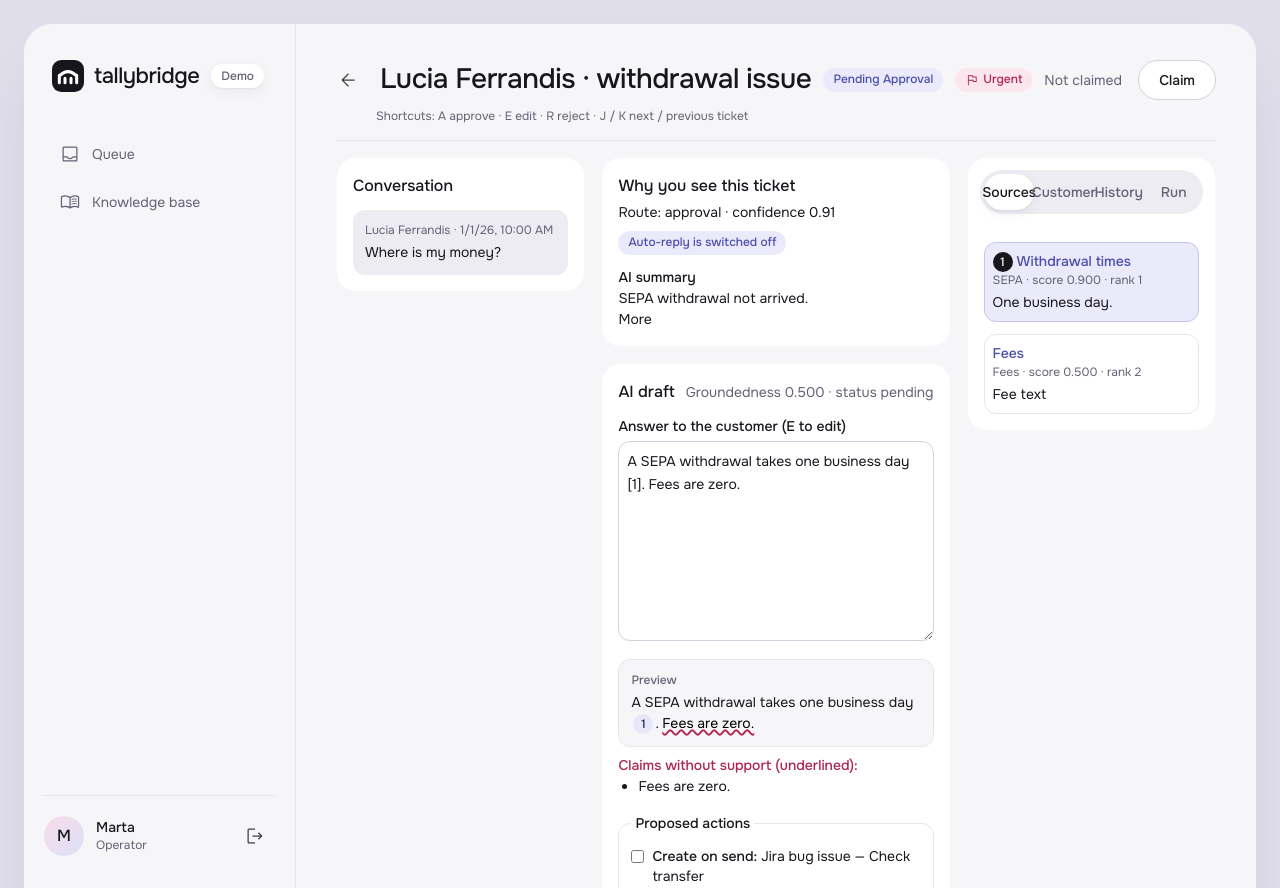
ticket workspace › the Run tab says when a run was not traced
Click the tab "Run".
click(1174, 192)  # box left=1148, top=174, right=1199, bottom=210
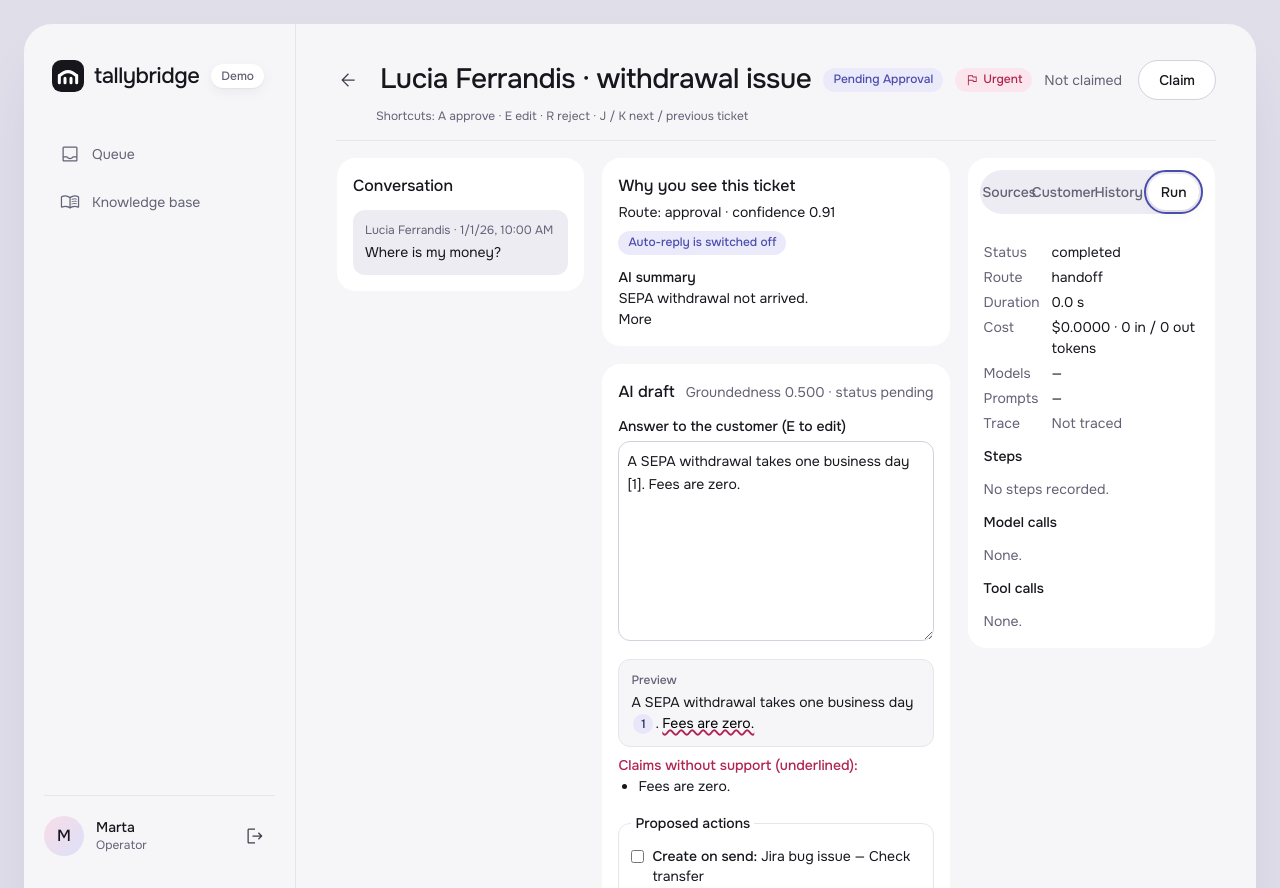
expect the text "Not traced" is shown: met, box left=1052, top=414, right=1122, bottom=432
expect the text "No steps recorded." is shown: met, box left=984, top=480, right=1109, bottom=498
